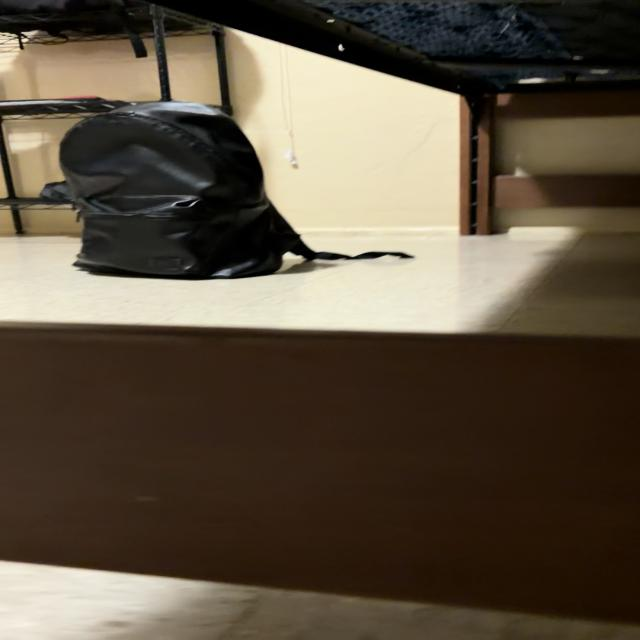backpack: (59, 101, 350, 278), (0, 0, 151, 57), (356, 252, 410, 258)
